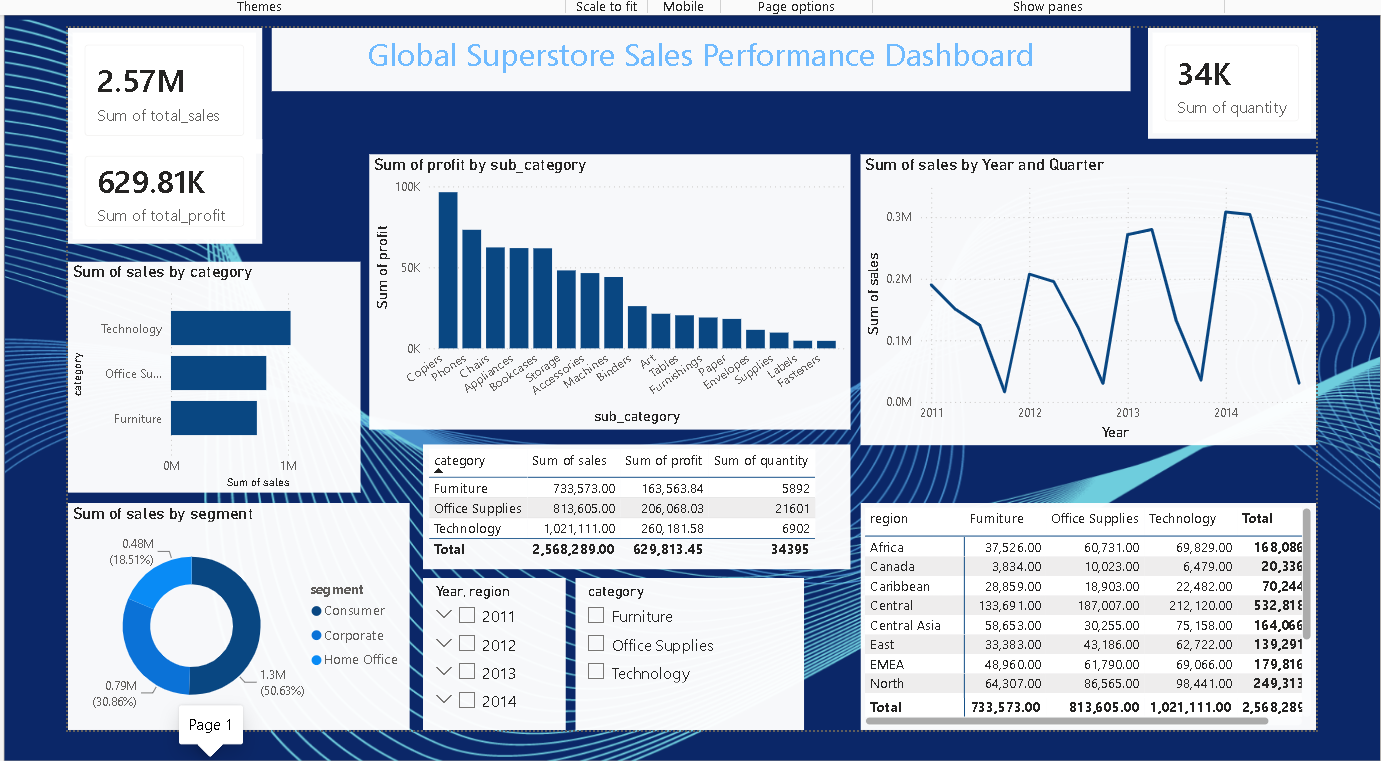

The page's visual inventory and layout, read from the dashboard file:
{"tool":"powerbi","page":{"name":"Page 1","canvas":[1280,720],"ordinal":0},"visuals":[{"type":"cardVisual","fields":{"Data":["Sum(Sales_Summary.total_sales)"]},"box":[0,0,199,129],"z":0},{"type":"cardVisual","fields":{"Data":["Sum(Sales_Summary.total_profit)"]},"box":[0,113.9,199,107],"z":1000},{"type":"cardVisual","fields":{"Data":["Sum(Superstore_Orders.quantity)"]},"box":[1107.4,0,172.9,113.9],"z":2000},{"type":"barChart","fields":{"Category":["Superstore_Orders.category"],"Y":["Sum(Superstore_Orders.sales)"]},"box":[0,239.7,300,237.2],"z":3000},{"type":"clusteredColumnChart","fields":{"Category":["Superstore_Orders.sub_category"],"Y":["Sum(Superstore_Orders.profit)"]},"box":[309,129.5,493.6,282.1],"z":4000},{"type":"lineChart","fields":{"Y":["Sum(Superstore_Orders.sales)"],"Category":["Superstore_Orders.order_date.Variation.Date Hierarchy.Year","Superstore_Orders.order_date.Variation.Date Hierarchy.Quarter"]},"box":[813,129,467,298],"z":5000},{"type":"donutChart","fields":{"Y":["Sum(Superstore_Orders.sales)"],"Category":["Superstore_Orders.segment"]},"box":[0,487,350,233],"z":6000},{"type":"tableEx","fields":{"Values":["Superstore_Orders.category","Sum(Superstore_Orders.sales)","Sum(Superstore_Orders.profit)","Sum(Superstore_Orders.quantity)"]},"box":[364.1,426.9,438.5,128.2],"z":7000},{"type":"pivotTable","fields":{"Rows":["Superstore_Orders.region"],"Values":["Sum(Superstore_Orders.sales)"],"Columns":["Sales_Summary.category"]},"box":[813,487,467,233],"z":8000},{"type":"textbox","box":[208.6,0,881,64.5],"z":8001},{"type":"slicer","fields":{"Values":["Superstore_Orders.category"]},"box":[520.1,564,234.6,156.4],"z":8003},{"type":"slicer","fields":{"Values":["Superstore_Orders.order_date.Variation.Date Hierarchy.Year","Superstore_Orders.region"]},"box":[364.1,564.1,146.2,156.4],"z":8004}]}

Visuals, with their boxes on the page's 1280x720 design canvas (x1, y1, x2, y2). These are canvas units, not pixel positions in the 1381x761 screenshot, which may show the page scaled, cropped or inside an application window:
cardVisual - Sum(Sales_Summary.total_sales): [left=0, top=0, right=199, bottom=129]
cardVisual - Sum(Sales_Summary.total_profit): [left=0, top=114, right=199, bottom=221]
cardVisual - Sum(Superstore_Orders.quantity): [left=1107, top=0, right=1280, bottom=114]
barChart - Superstore_Orders.category x Sum(Superstore_Orders.sales): [left=0, top=240, right=300, bottom=477]
clusteredColumnChart - Superstore_Orders.sub_category x Sum(Superstore_Orders.profit): [left=309, top=130, right=803, bottom=412]
lineChart - Sum(Superstore_Orders.sales) x Superstore_Orders.order_date.Variation.Date Hierarchy.Year: [left=813, top=129, right=1280, bottom=427]
donutChart - Sum(Superstore_Orders.sales) x Superstore_Orders.segment: [left=0, top=487, right=350, bottom=720]
tableEx - Superstore_Orders.category x Sum(Superstore_Orders.sales): [left=364, top=427, right=803, bottom=555]
pivotTable - Superstore_Orders.region x Sum(Superstore_Orders.sales): [left=813, top=487, right=1280, bottom=720]
textbox: [left=209, top=0, right=1090, bottom=64]
slicer - Superstore_Orders.category: [left=520, top=564, right=755, bottom=720]
slicer - Superstore_Orders.order_date.Variation.Date Hierarchy.Year x Superstore_Orders.region: [left=364, top=564, right=510, bottom=720]
